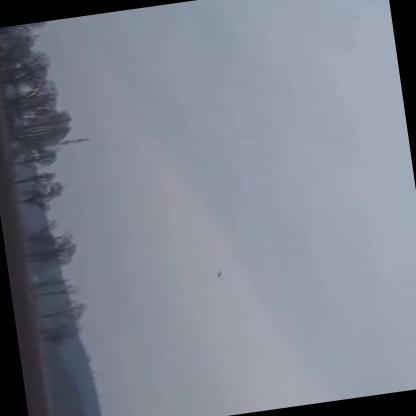plane: (207, 267, 228, 285)
